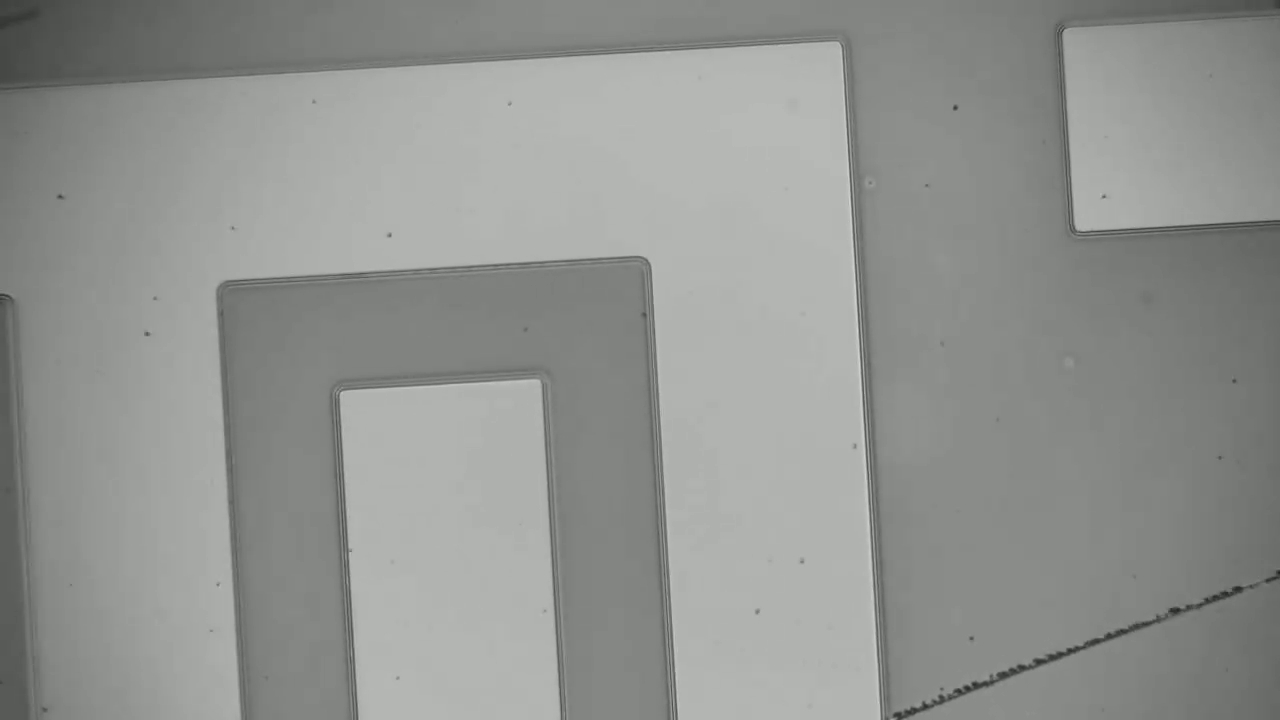scratch: (905, 575, 1273, 714)
